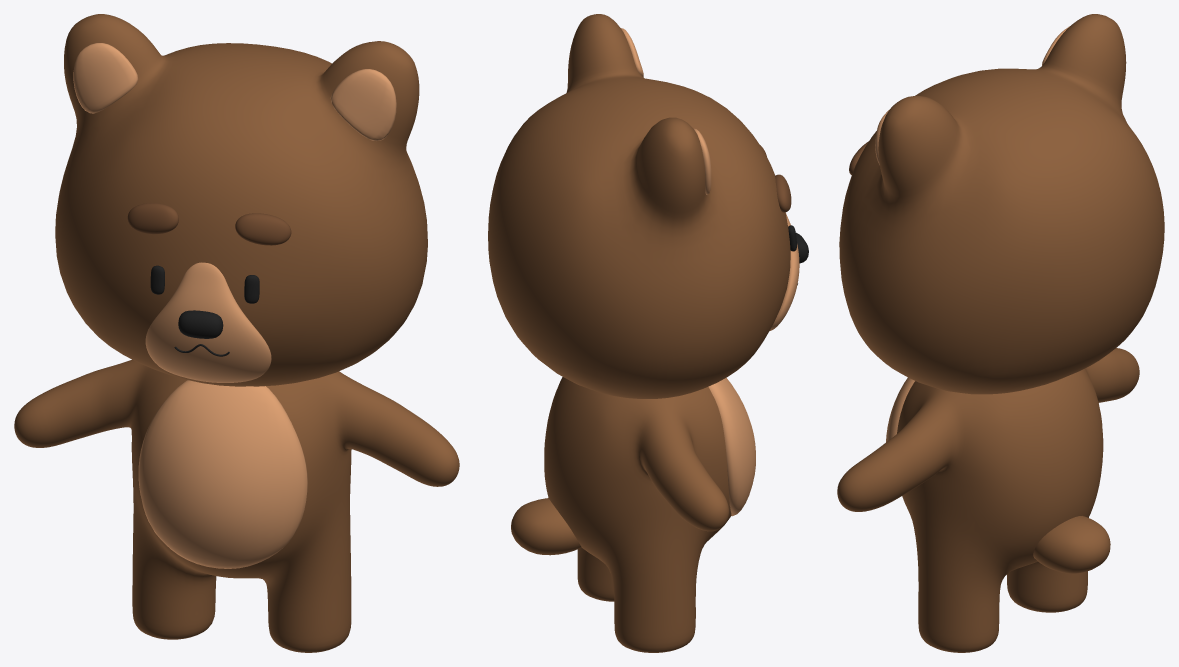
The model's file is bear.glb.
3 views of the same model, side by side, from view 1: azimuth 30°, elevation 25°; view 2: azimuth 150°, elevation 25°; view 3: azimuth 270°, elevation 25° (orthographic). The views are drawn at different scales.
Parts seen in each view (by area): view 1: Bear; view 2: Bear; view 3: Bear.
Part boxes in pixels (box(x1,y1,x2,y2)): Bear: box(14, 14, 459, 652); Bear: box(488, 14, 808, 652); Bear: box(837, 14, 1164, 652).
Bounding box in the file's own units: 2.07 × 3.81 × 2.01.
